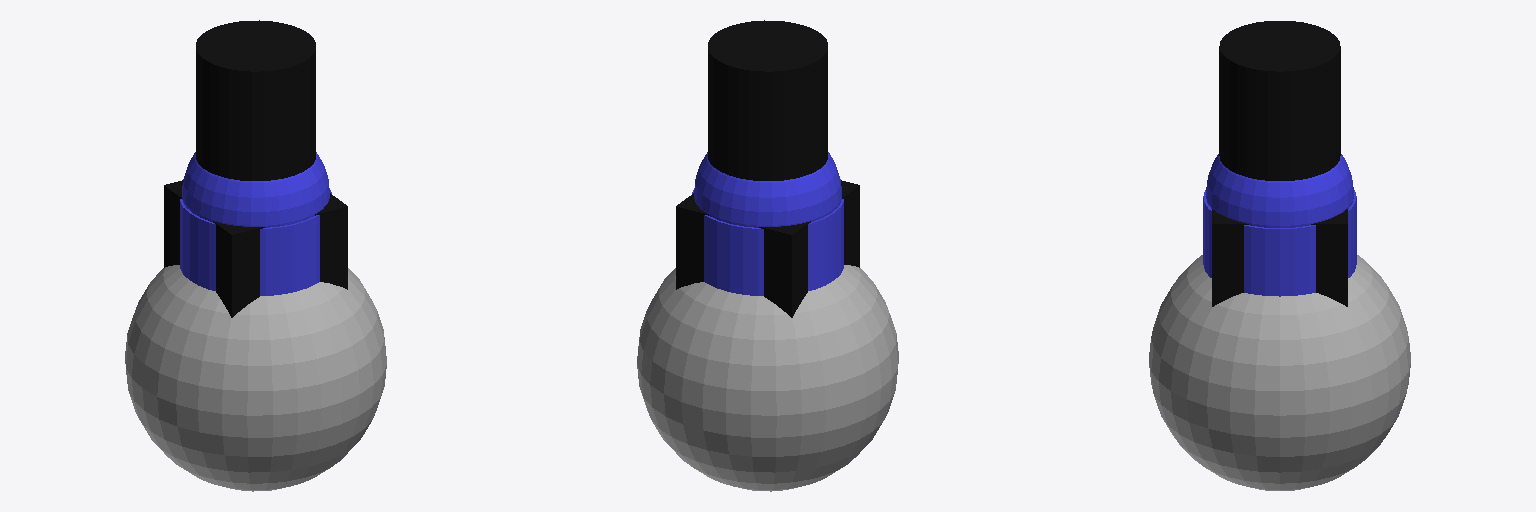
URDF robot description (evolved_robot):
<?xml version="1.0"?>
<robot name="evolved_robot">
  <material name="metal">
    <color rgba="0.7 0.7 0.7 1.0"/>
  </material>
  <material name="plastic">
    <color rgba="0.3 0.3 0.9 1.0"/>
  </material>
  <material name="rubber">
    <color rgba="0.1 0.1 0.1 1.0"/>
  </material>
  <material name="red">
    <color rgba="1.0 0.0 0.0 1.0"/>
  </material>
  <material name="wheel_material">
    <color rgba="0.2 0.2 0.2 1.0"/>
  </material>
  <link name="base_link">
    <visual>
      <geometry><sphere radius="0.11778849344417112"/></geometry>
      <material name="metal"/>
    </visual>
    <collision>
      <geometry><sphere radius="0.11778849344417112"/></geometry>
    </collision>
    <inertial>
      <mass value="5.0"/>
      <inertia ixx="0.05549651675139018" ixy="0" ixz="0" 
               iyy="0.05549651675139018" iyz="0" 
               izz="0.05549651675139018"/>
    </inertial>
  </link>
  <link name="link1">
    <visual>
      <geometry><cylinder radius="0.06881490202577381" length="0.19527266366108598"/></geometry>
      <material name="plastic"/>
    </visual>
    <collision>
      <geometry><cylinder radius="0.06881490202577381" length="0.19527266366108598"/></geometry>
    </collision>
    <inertial>
      <mass value="0.5"/>
      <inertia ixx="0.0043614904496455135" ixy="0" ixz="0" 
               iyy="0.0043614904496455135" iyz="0" 
               izz="0.002367745370408424"/>
    </inertial>
  </link>
  <joint name="joint1" type="revolute">
    <parent link="base_link"/>
    <child link="link1"/>
    <origin xyz="0 0 0.0639981772847387" rpy="0 0 0"/>
    <axis xyz="-0.6665710486624863 -0.18646974723615306 0.7217423851005832"/>
    <dynamics damping="0.12740985007843206" friction="0.1"/>
    <limit lower="-0.6865337371664445" upper="0.07322227772249763" effort="100" velocity="100"/>
  </joint>
  <link name="link2">
    <visual>
      <geometry><box size="0.1207828709484049 0.12245717128177022 0.09757899011843829"/></geometry>
      <material name="rubber"/>
    </visual>
    <collision>
      <geometry><box size="0.1207828709484049 0.12245717128177022 0.09757899011843829"/></geometry>
    </collision>
    <inertial>
      <mass value="0.5"/>
      <inertia ixx="0.0020431181759055905" ixy="0" ixz="0" 
               iyy="0.002009180102256109" iyz="0" 
               izz="0.0024653550594059864"/>
    </inertial>
  </link>
  <joint name="joint2" type="fixed">
    <parent link="base_link"/>
    <child link="link2"/>
    <origin xyz="0 0 0.1139981772847387" rpy="0 0 0"/>
    <axis xyz="0.5405573840613302 0.73986872228039 0.4004896856698744"/>
    <dynamics damping="0.32217045040889225" friction="0.1"/>
  </joint>
  <link name="link3">
    <visual>
      <geometry><sphere radius="0.06664626284379745"/></geometry>
      <material name="plastic"/>
    </visual>
    <collision>
      <geometry><sphere radius="0.06664626284379745"/></geometry>
    </collision>
    <inertial>
      <mass value="0.5"/>
      <inertia ixx="0.0017766897404178146" ixy="0" ixz="0" 
               iyy="0.0017766897404178146" iyz="0" 
               izz="0.0017766897404178146"/>
    </inertial>
  </link>
  <joint name="joint3" type="prismatic">
    <parent link="base_link"/>
    <child link="link3"/>
    <origin xyz="0 0 0.1639981772847387" rpy="0 0 0"/>
    <axis xyz="0.01108440517267698 0.949077770641911 0.31484682186000934"/>
    <dynamics damping="0.4117828208540274" friction="0.1"/>
    <limit lower="-2.8289879891267073" upper="1.65076405813098" effort="100" velocity="100"/>
  </joint>
  <link name="link4">
    <visual>
      <geometry><cylinder radius="0.05435130960907877" length="0.19377988260076867"/></geometry>
      <material name="rubber"/>
    </visual>
    <collision>
      <geometry><cylinder radius="0.05435130960907877" length="0.19377988260076867"/></geometry>
    </collision>
    <inertial>
      <mass value="0.5"/>
      <inertia ixx="0.0038677364557861255" ixy="0" ixz="0" 
               iyy="0.0038677364557861255" iyz="0" 
               izz="0.0014770324281109689"/>
    </inertial>
  </link>
  <joint name="joint4" type="prismatic">
    <parent link="base_link"/>
    <child link="link4"/>
    <origin xyz="0 0 0.21399817728473872" rpy="0 0 0"/>
    <axis xyz="0.9248506022457607 -0.09491423267899927 0.3682969616499848"/>
    <dynamics damping="0.2888799852650854" friction="0.1"/>
    <limit lower="-1.4471671154645713" upper="3.1176989047034307" effort="100" velocity="100"/>
  </joint>
</robot>

--- Render facts (derived) ---
The picture shows the robot from 3 angles, left to right: view 1: azimuth 30°, elevation 25°; view 2: azimuth 150°, elevation 25°; view 3: azimuth 270°, elevation 25°; orthographic projection.
Model evolved_robot with 5 links and 4 joints (1 revolute, 2 prismatic, 1 fixed), rooted at base_link, posed every joint at zero.
Visible links, largest first — view 1: base_link, link4, link2, link3, link1; view 2: base_link, link4, link2, link3, link1; view 3: base_link, link4, link3, link1, link2.
Boxes of the visible links, x1=… form: base_link: x1=125, y1=265, x2=386, y2=491; link4: x1=196, y1=20, x2=315, y2=180; link2: x1=164, y1=180, x2=347, y2=317; link3: x1=182, y1=152, x2=329, y2=227; link1: x1=180, y1=188, x2=331, y2=295; base_link: x1=637, y1=265, x2=898, y2=491; link4: x1=708, y1=20, x2=827, y2=180; link2: x1=676, y1=180, x2=859, y2=317; link3: x1=694, y1=152, x2=841, y2=227; link1: x1=692, y1=188, x2=843, y2=295; base_link: x1=1149, y1=255, x2=1410, y2=490; link4: x1=1219, y1=21, x2=1340, y2=180; link3: x1=1206, y1=154, x2=1353, y2=227; link1: x1=1203, y1=190, x2=1356, y2=296; link2: x1=1212, y1=209, x2=1347, y2=306.
Size in the robot's own frame: 0.2356 by 0.2356 by 0.4287 metres.
Geometry: primitives only (box / cylinder / sphere), no mesh files.